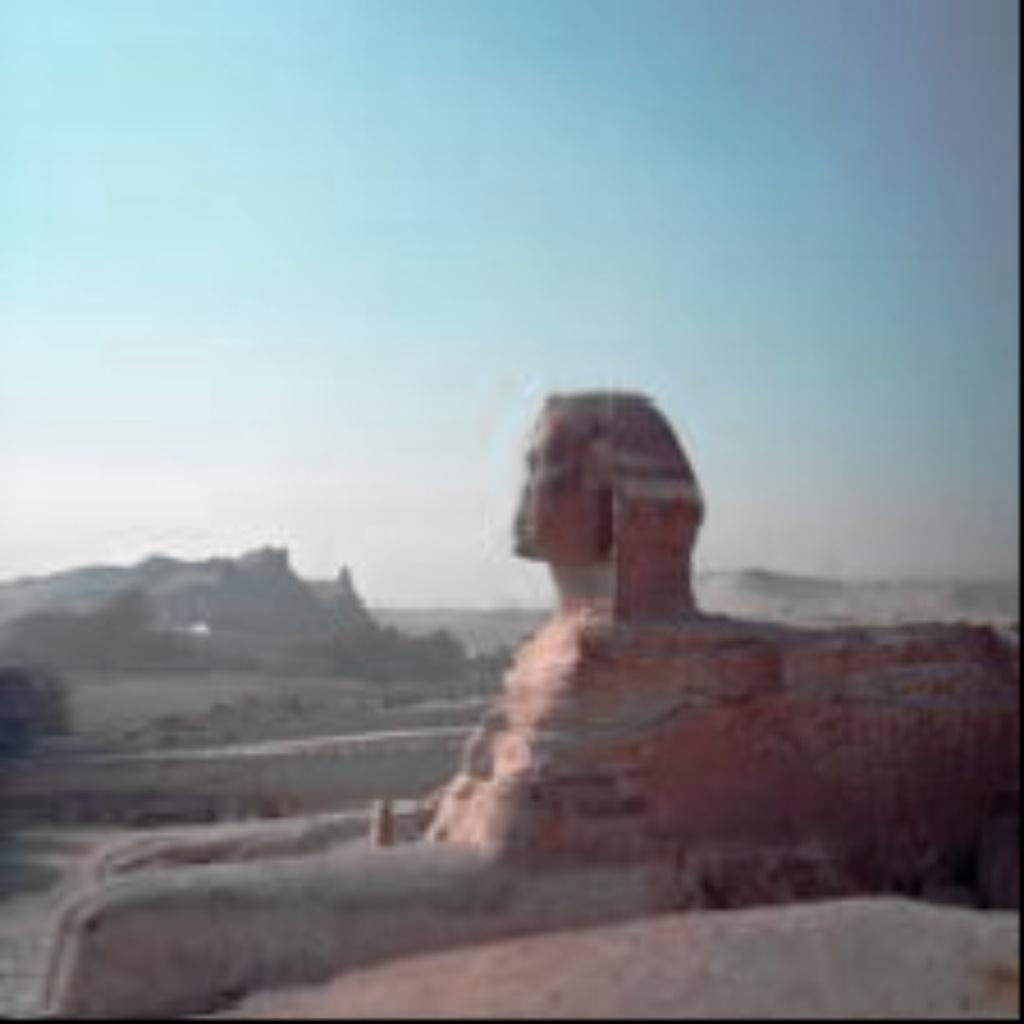Sphinx: (412, 380, 1014, 900)
